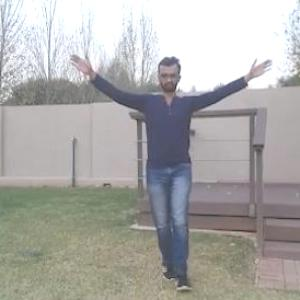takeoff: (71, 53, 275, 277)
